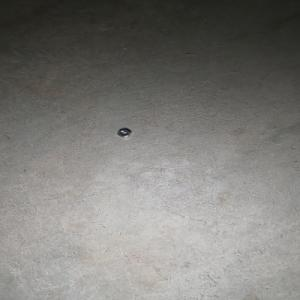Nut: (116, 128, 131, 136)
